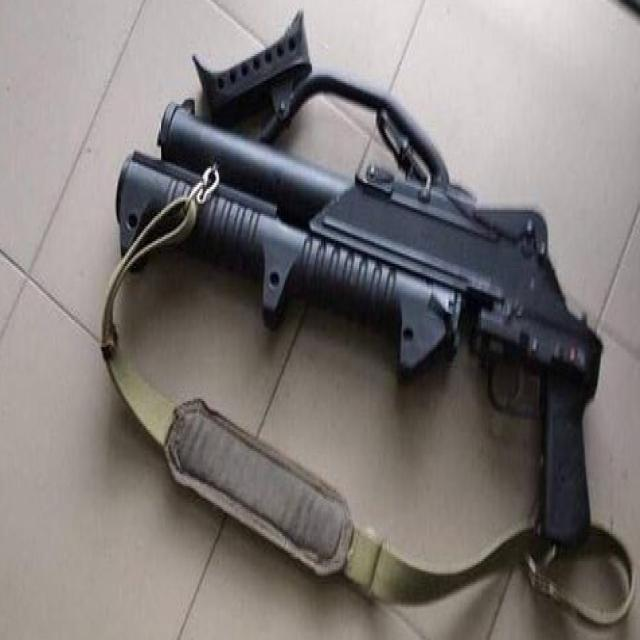Weapon: (117, 12, 601, 544)
